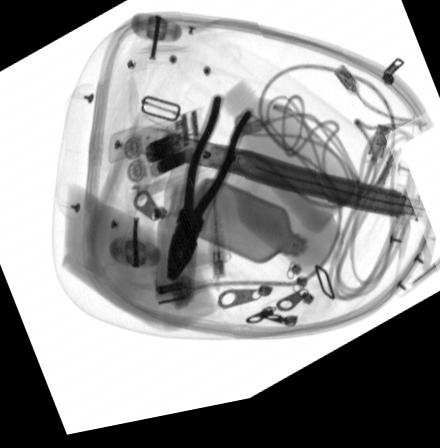Pliers: (166, 102, 254, 287)
